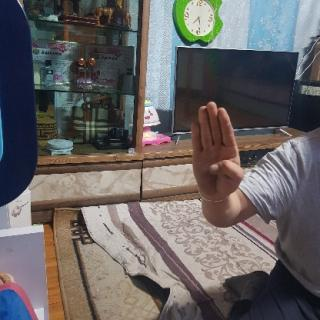KAAF: (186, 98, 248, 206)
